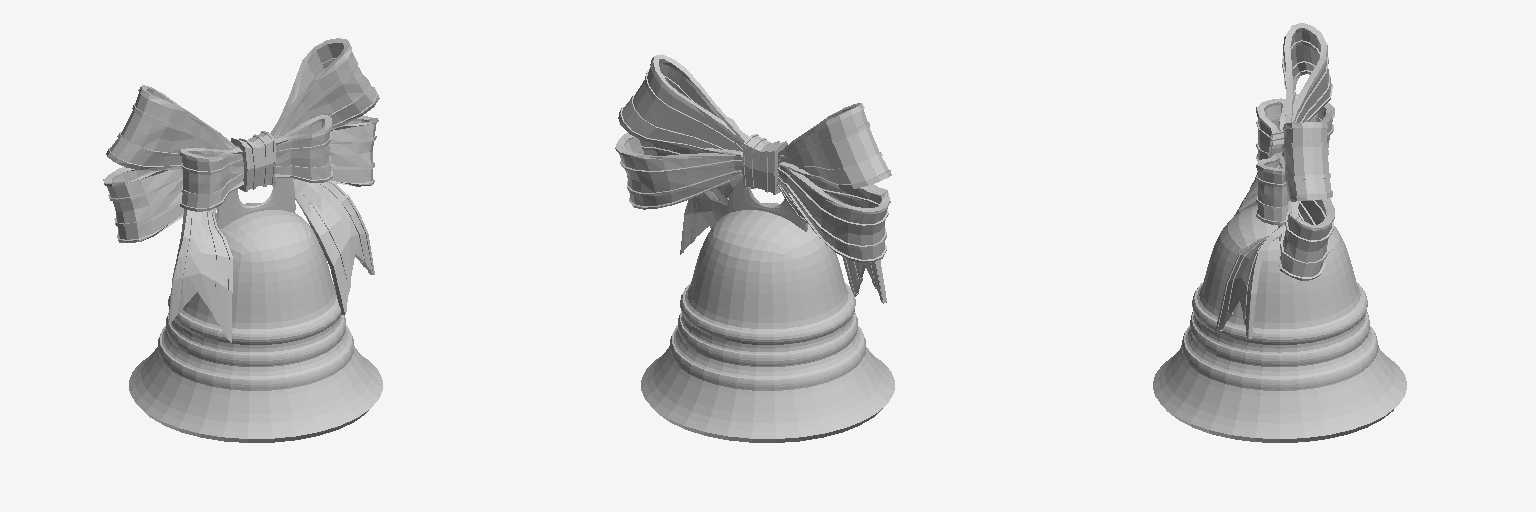
Rendered from bell.obj.
3 renders of one model, left to right at view 1: azimuth 30°, elevation 25°; view 2: azimuth 150°, elevation 25°; view 3: azimuth 270°, elevation 25°, orthographic.
Parts seen in each view (by area): view 1: Whole_bell_ID_MAp_Plane.004; view 2: Whole_bell_ID_MAp_Plane.004; view 3: Whole_bell_ID_MAp_Plane.004.
Part boxes in pixels (bbox=[...]): Whole_bell_ID_MAp_Plane.004: bbox=[103, 38, 382, 442]; Whole_bell_ID_MAp_Plane.004: bbox=[615, 54, 894, 442]; Whole_bell_ID_MAp_Plane.004: bbox=[1153, 23, 1406, 442].
Size of the model in its own units: 0.7221 by 0.9397 by 0.5918.